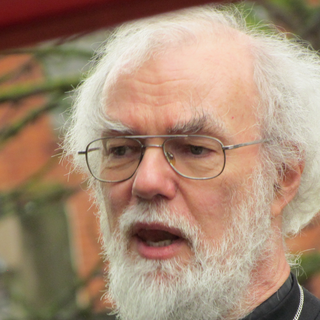eye: (172, 139, 219, 163), (100, 140, 142, 163)
